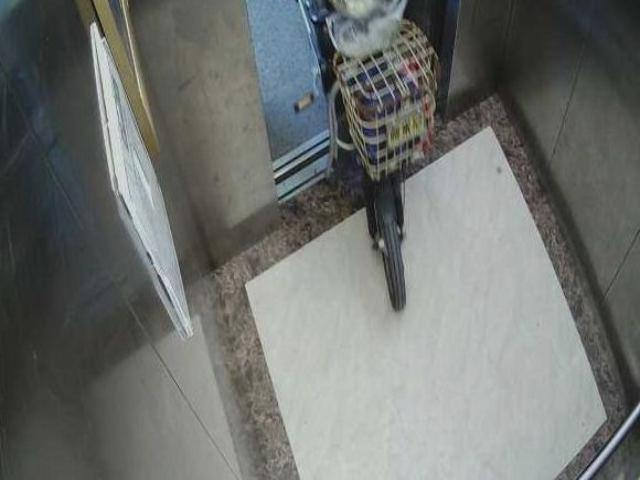emotor: (289, 2, 439, 301)
